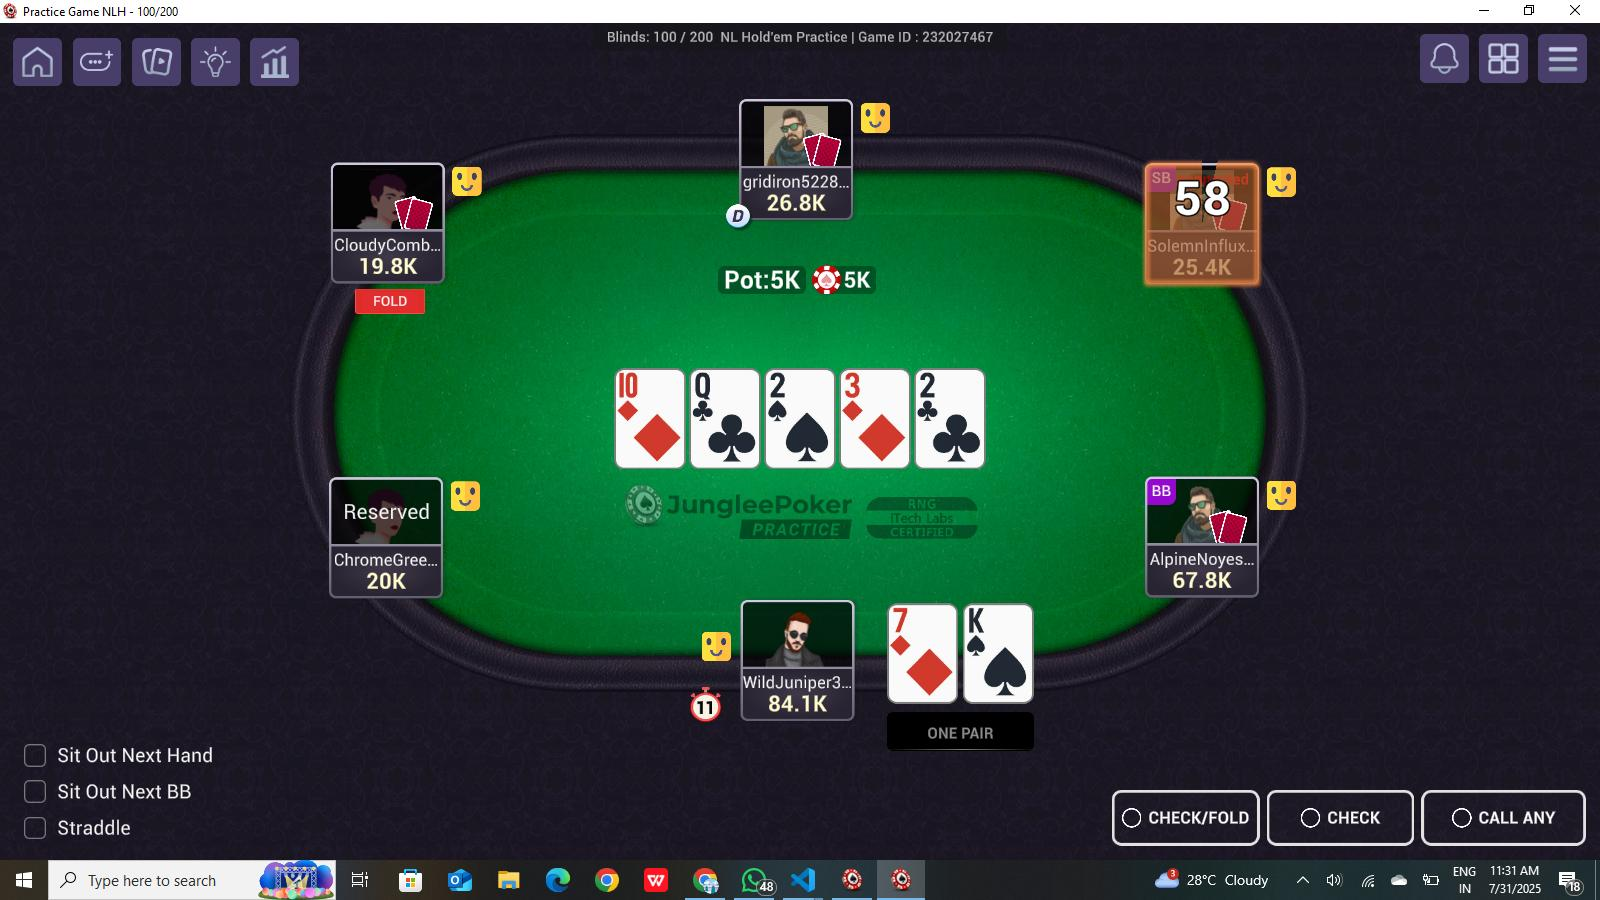card1_rank: (891, 605, 930, 638)
card1_suite_diamond: (903, 633, 955, 702)
card2_rank: (960, 605, 1012, 638)
card2_suite_spades: (980, 642, 1032, 703)
flop1_rank: (615, 368, 652, 405)
flop1_suite_diamond: (635, 407, 684, 468)
flop2_rank: (691, 370, 748, 405)
flop2_suite_club: (700, 409, 757, 467)
flop3_rank: (764, 370, 805, 403)
flop3_suite_spades: (781, 412, 833, 467)
game_id: (855, 23, 1010, 64)
my_stack: (764, 688, 829, 719)
position_BB: (1146, 480, 1180, 503)
position_SB: (1151, 167, 1174, 190)
river_rank: (915, 370, 957, 405)
river_suite_club: (923, 410, 984, 465)
total_pot: (723, 264, 881, 295)
turn_rank: (842, 370, 878, 407)
turn_suite_diamond: (854, 413, 905, 467)
villian1_name: (336, 545, 438, 570)
villian1_stack: (352, 570, 422, 597)
villian2_name: (332, 230, 442, 257)
villian2_stack: (349, 252, 426, 277)
villian3_name: (735, 171, 848, 191)
villian3_stack: (755, 191, 835, 212)
villian4_name: (1145, 232, 1254, 258)
villian4_stack: (1167, 258, 1236, 280)
villian5_name: (1145, 546, 1257, 568)
villian5_stack: (1157, 567, 1240, 598)
